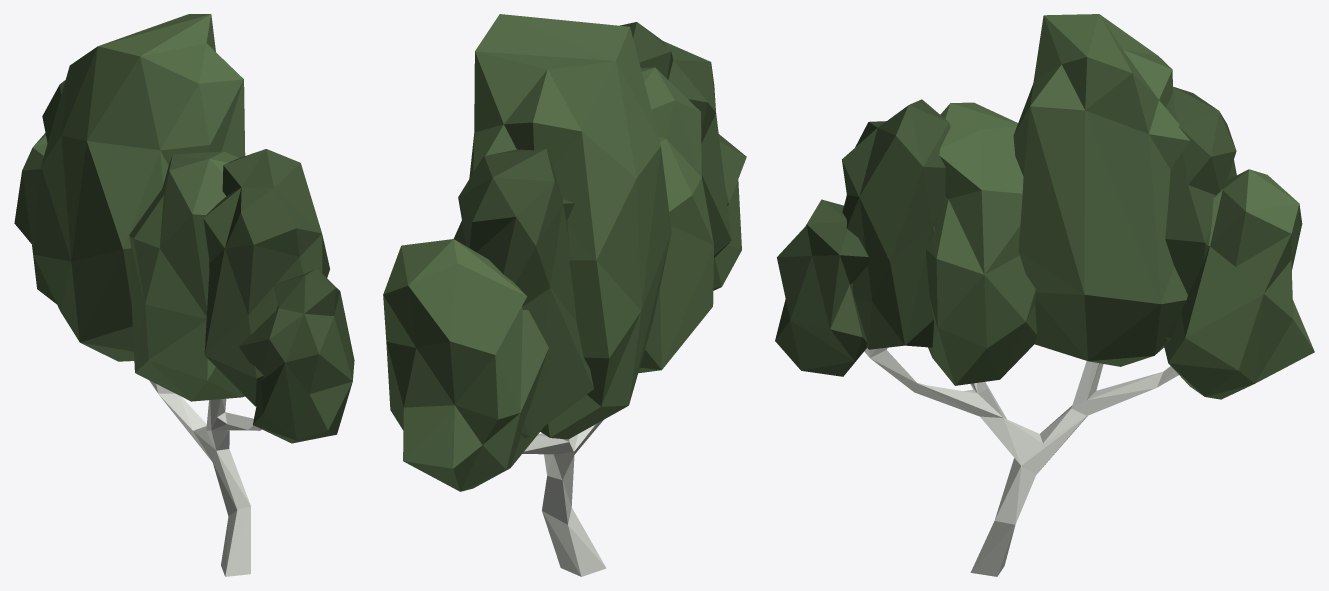
File: BirchTree_4.lod2.glb
3 views of the same model, side by side, from view 1: azimuth 30°, elevation 25°; view 2: azimuth 150°, elevation 25°; view 3: azimuth 270°, elevation 25° (orthographic). The views are drawn at different scales.
Parts seen in each view (by area): view 1: BirchTree_4; view 2: BirchTree_4; view 3: BirchTree_4.
Boxes of the visible parts, left/top/right/bottom form: BirchTree_4: left=14, top=14, right=354, bottom=576; BirchTree_4: left=383, top=14, right=746, bottom=576; BirchTree_4: left=775, top=14, right=1314, bottom=576.
Size of the model in its own units: 1.16 by 3.53 by 3.29.
